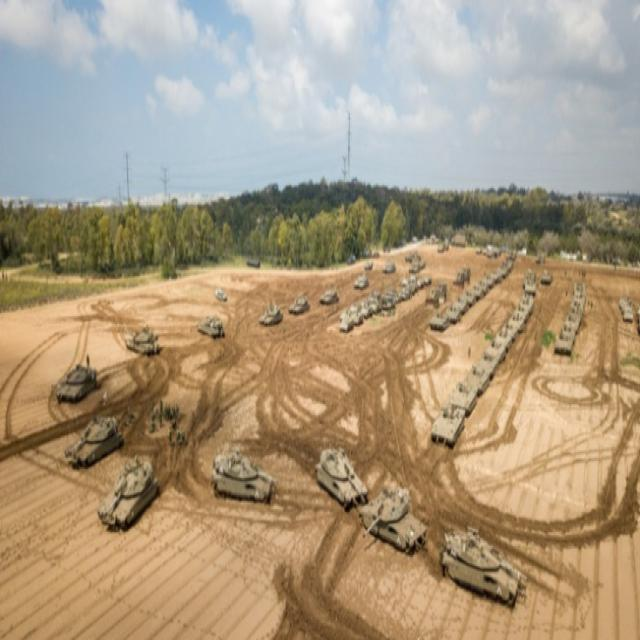tank: (450, 528, 527, 616), (365, 479, 432, 564), (97, 456, 160, 540), (212, 447, 275, 506), (314, 442, 366, 513), (66, 413, 119, 474), (431, 402, 467, 453)
